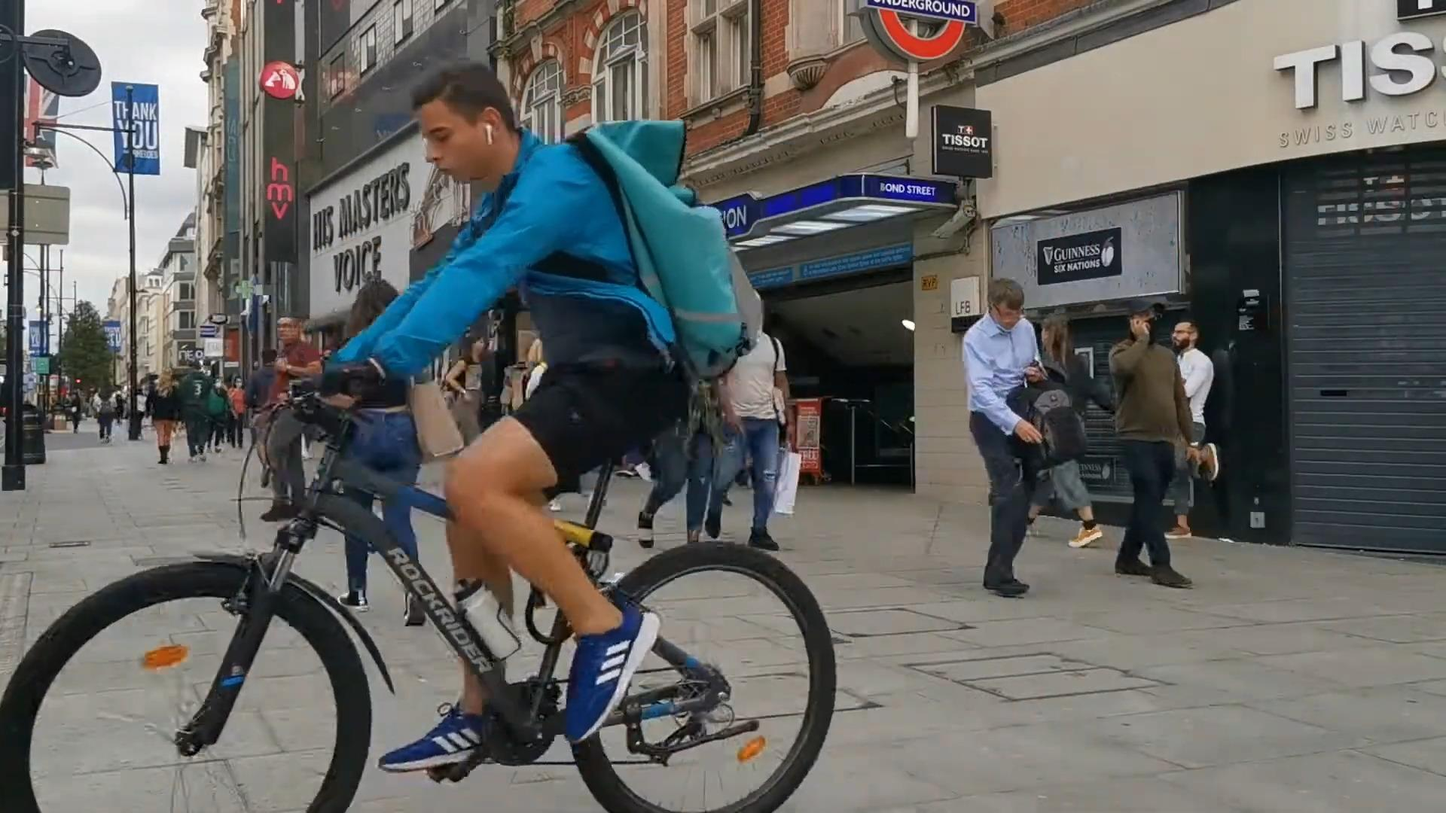no-helmet: (410, 55, 515, 184), (347, 278, 400, 333), (1126, 298, 1168, 345), (988, 278, 1025, 329), (1040, 313, 1074, 362), (1171, 319, 1199, 354), (277, 317, 301, 344), (463, 333, 485, 357), (157, 367, 173, 386), (261, 348, 277, 366), (233, 375, 244, 390)
